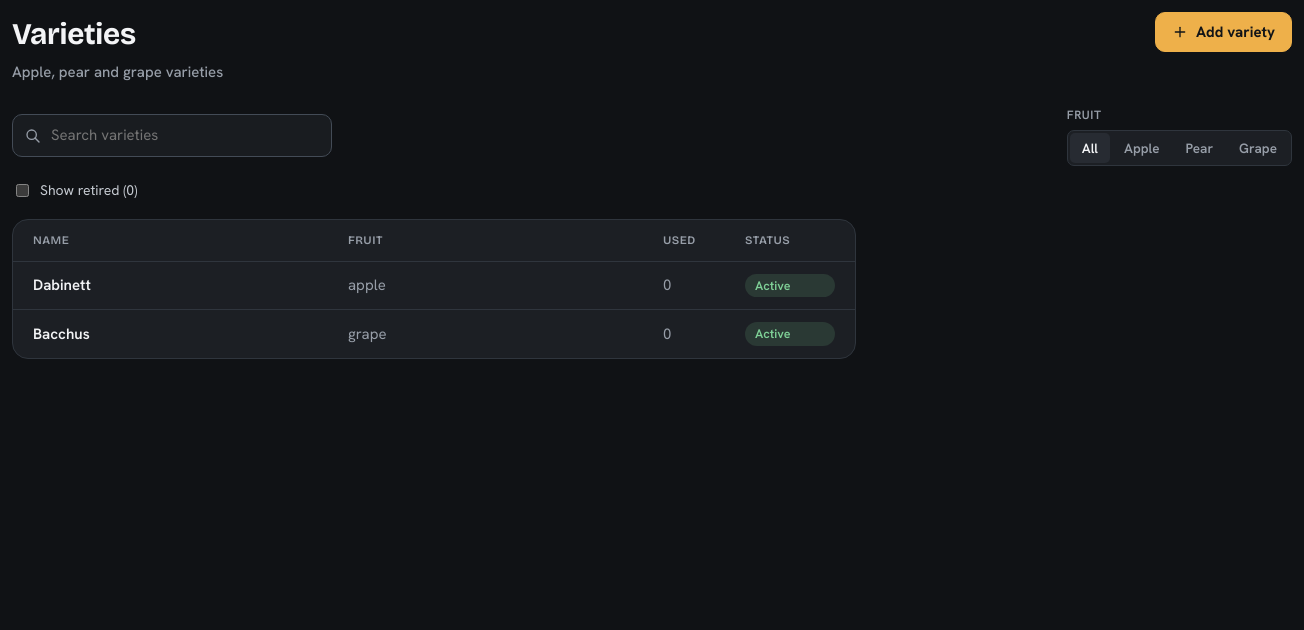
Test: ManagementList › adds a new row through the create flow
The width and height of the screenshot is (1304, 630).
Expected: the text "Dabinett" is shown, left=33, top=275, right=91, bottom=295
Click the button "Add variety": click(1224, 32) left=1155, top=12, right=1292, bottom=52
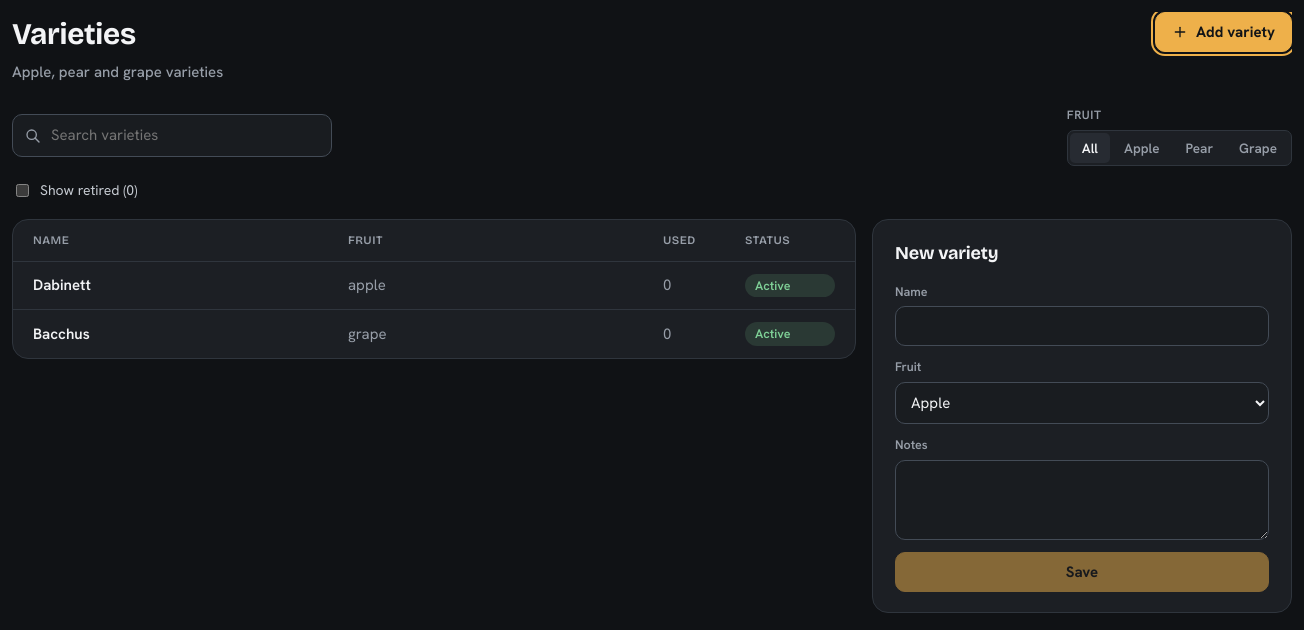
In the field labelled "Name": (1082, 326) left=895, top=306, right=1269, bottom=346, type "Thorn"
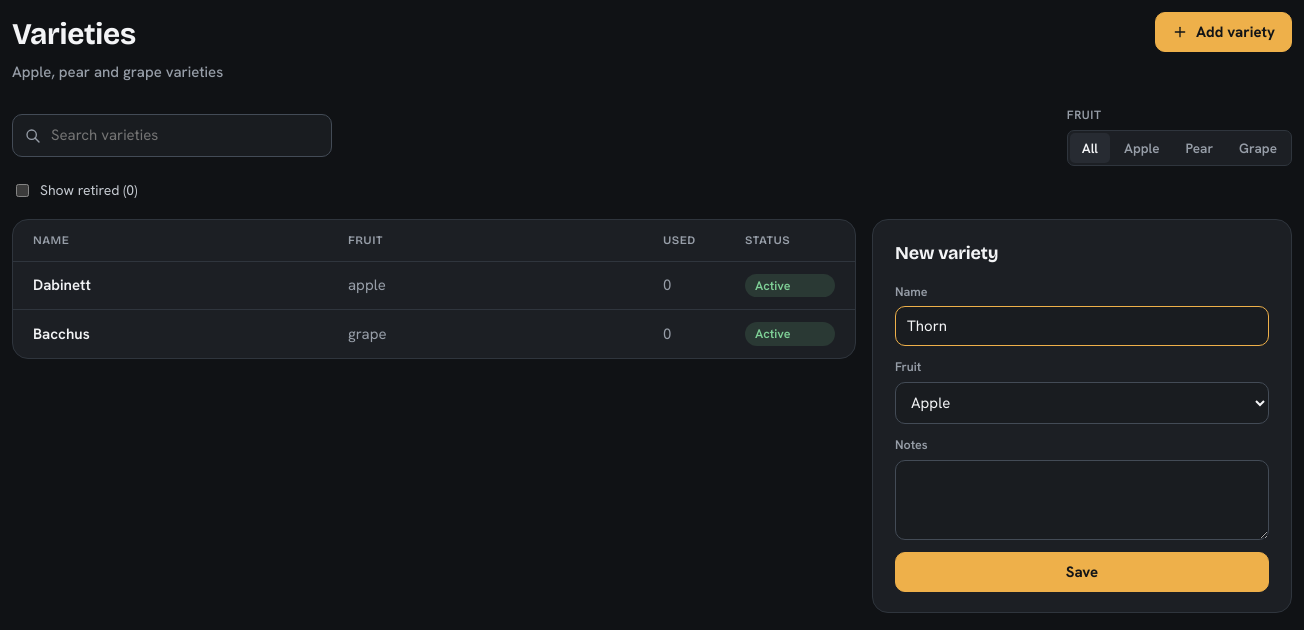
Click the button "Save": click(1082, 572) left=895, top=552, right=1269, bottom=592
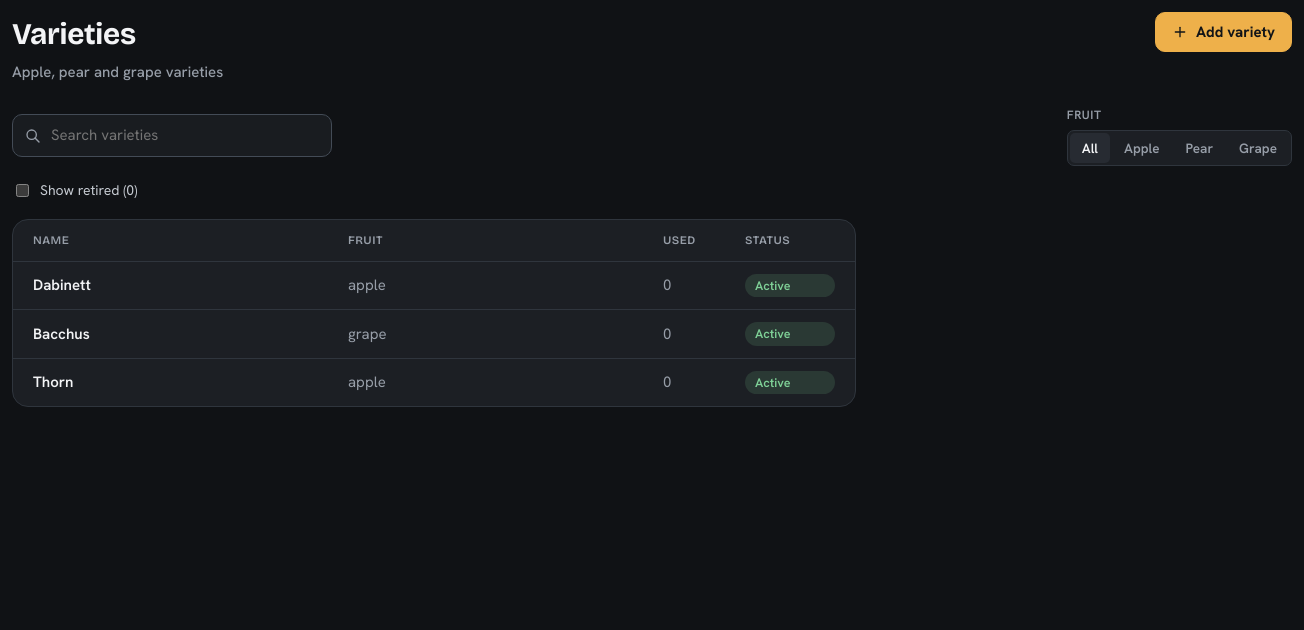
Now the text "Thorn" is shown, box left=33, top=372, right=74, bottom=392
